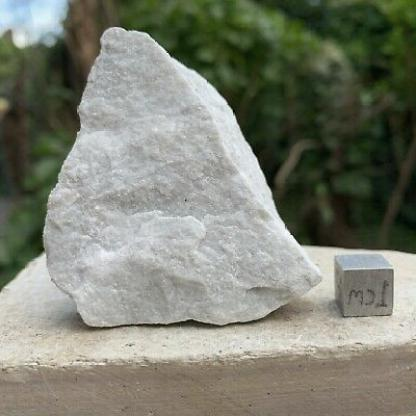Metamorphic_Marble: (40, 22, 330, 333)
